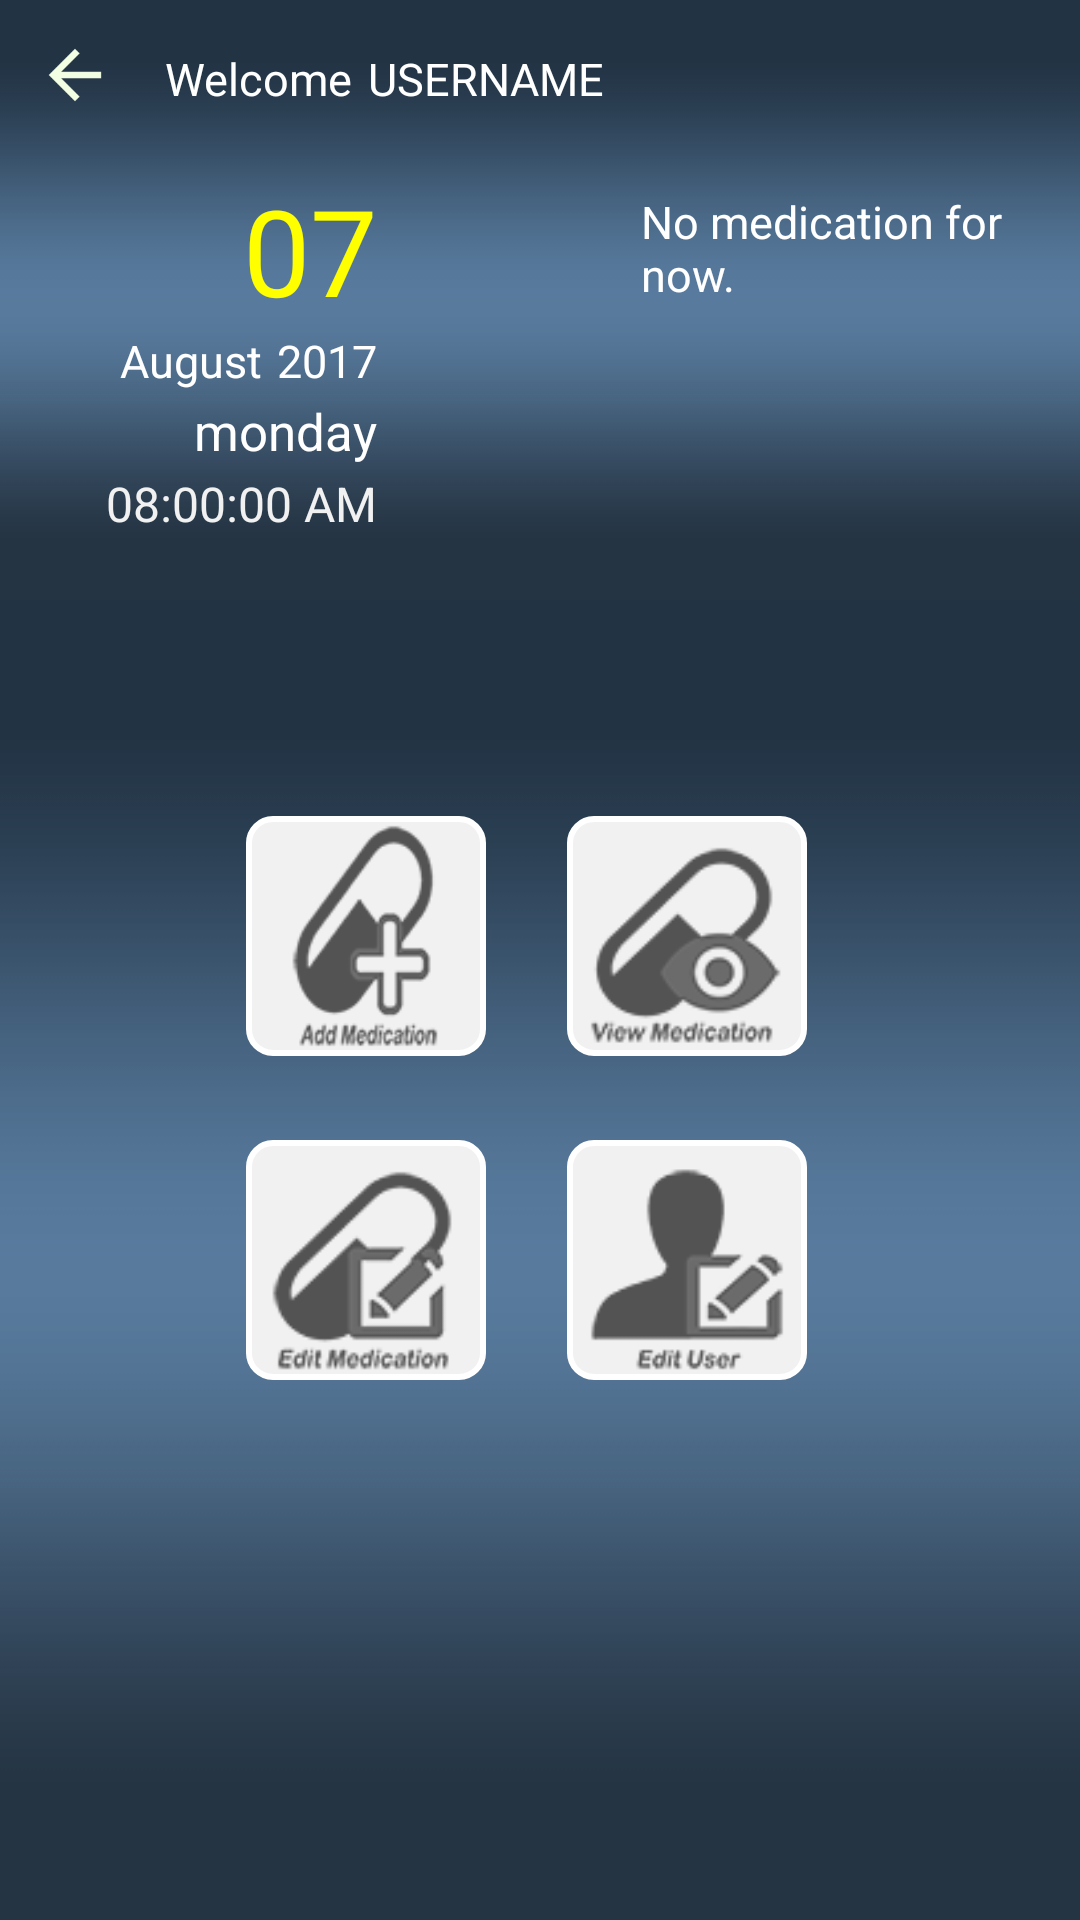

Locate icon controls on the screen. Image size 1080w x 1920h, boxes as (x1, y1, x2, y2).
arrow back: (49, 49, 102, 101)
